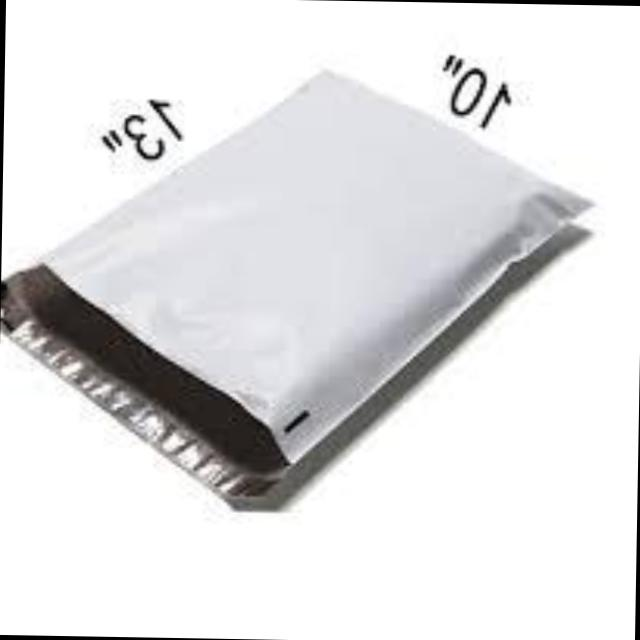mailer: (0, 68, 585, 497)
